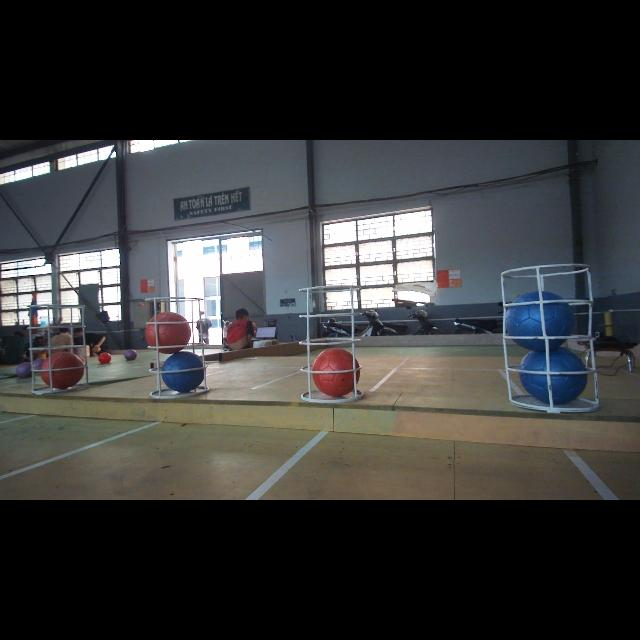B: (503, 290, 575, 352), (518, 346, 588, 406), (313, 348, 361, 399), (162, 351, 204, 394)
R: (146, 311, 190, 353), (41, 351, 85, 389)
